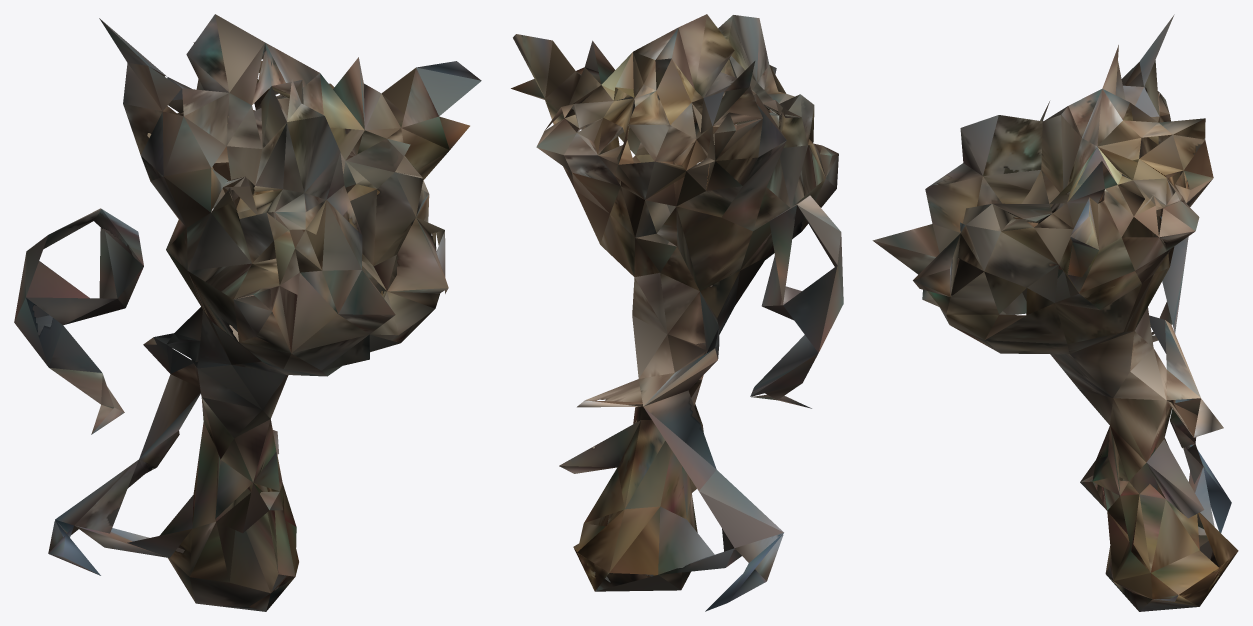
Rendered from 03_apothecary.fbx.
3 views of the same model, side by side, from view 1: azimuth 30°, elevation 25°; view 2: azimuth 150°, elevation 25°; view 3: azimuth 270°, elevation 25° (orthographic). The views are drawn at different scales.
Parts seen in each view (by area): view 1: 03_apothecary; view 2: 03_apothecary; view 3: 03_apothecary.
Boxes of the visible parts, left/top/right/bottom form: 03_apothecary: left=14, top=14, right=481, bottom=611; 03_apothecary: left=511, top=14, right=843, bottom=611; 03_apothecary: left=872, top=14, right=1238, bottom=611.
Size of the model in its own units: 20.56 by 30 by 18.4.
Materials: 1 (1 with a texture image).
